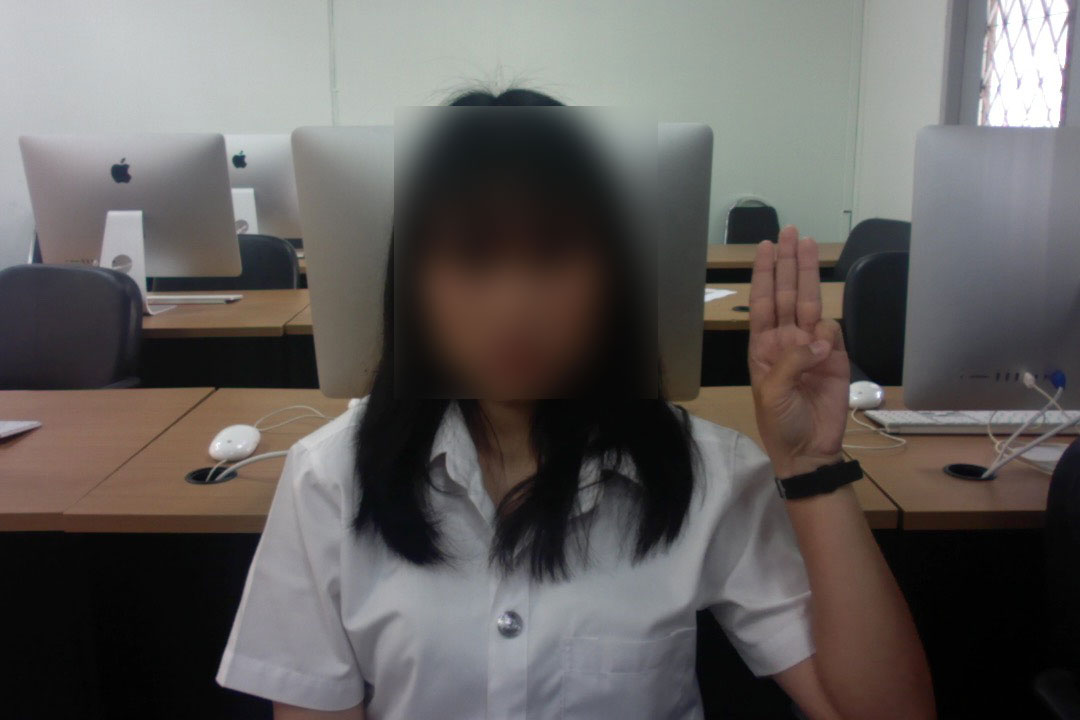wor: (738, 220, 858, 464)
